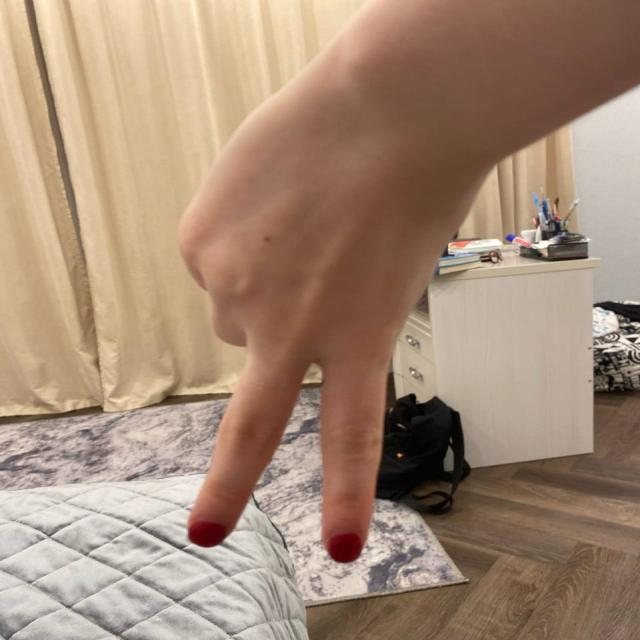l: (167, 110, 440, 562)
